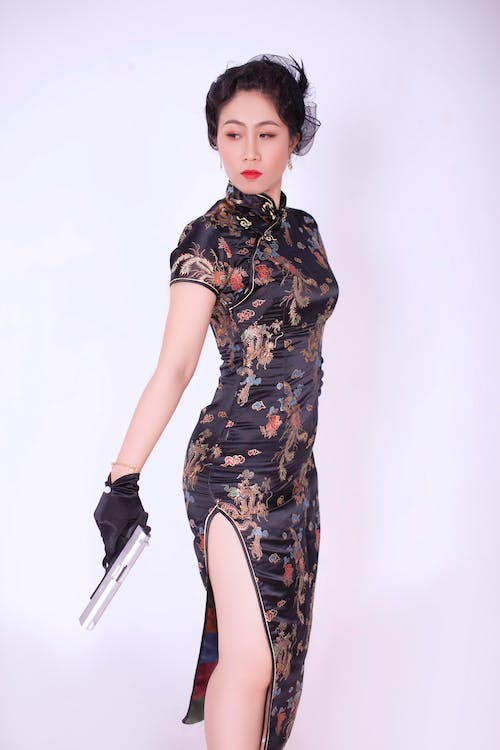gun: (74, 520, 156, 635)
